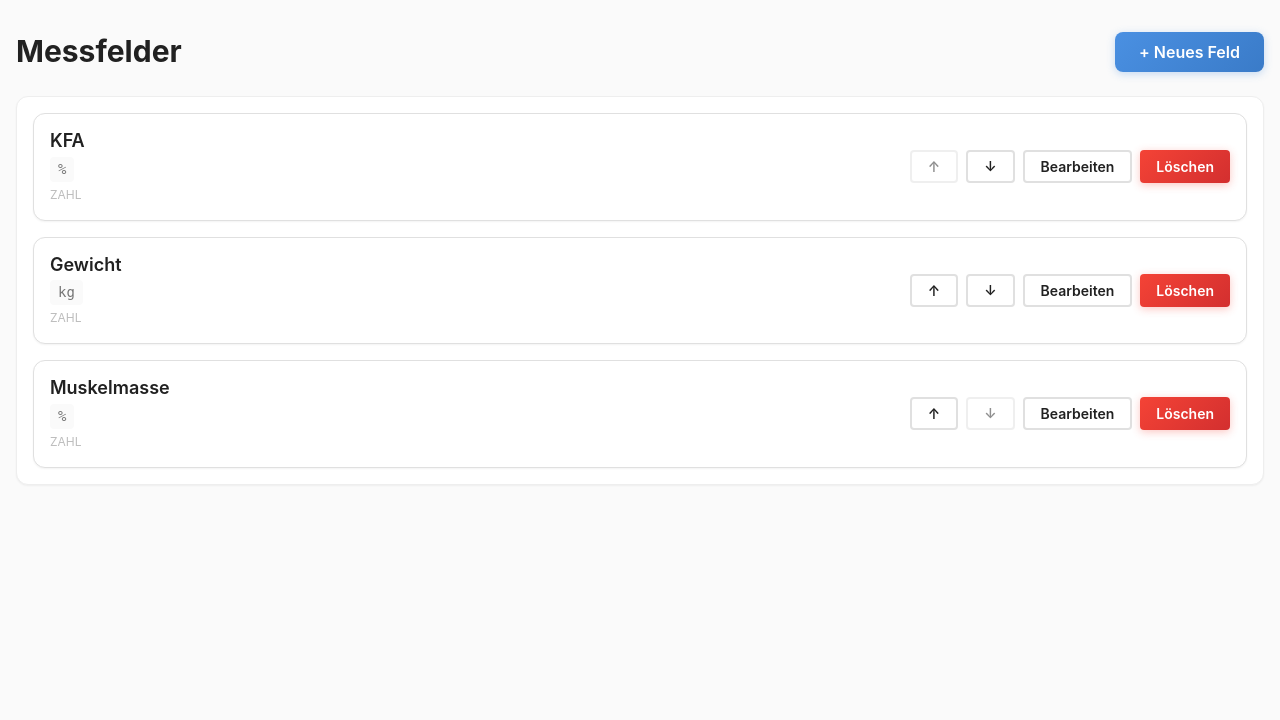
FieldsPage Component › Delete Field - No Config Impact › should show simple confirmation when field is not in any config
Assuming delete buttons exist in FieldList
What coordinates should you click on to do the following:
click the 1st button "Löschen"
I would click on:
 (1185, 167)
Its box is [1140, 150, 1230, 183].
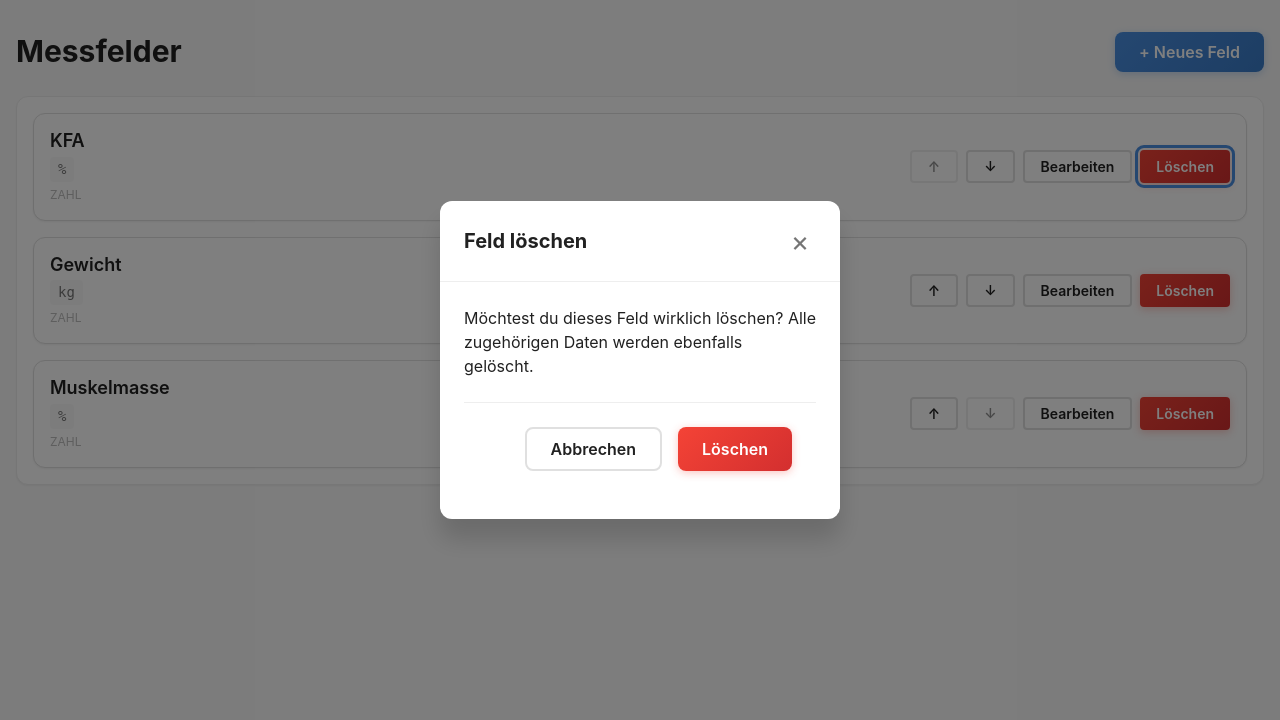
Check: the heading "Feld löschen" is shown, box [464, 228, 587, 254]
Check: the text "Möchtest du dieses Feld wirklich löschen? Alle zugehörigen Daten werden ebenfalls gelöscht." is shown, box [464, 308, 816, 376]
